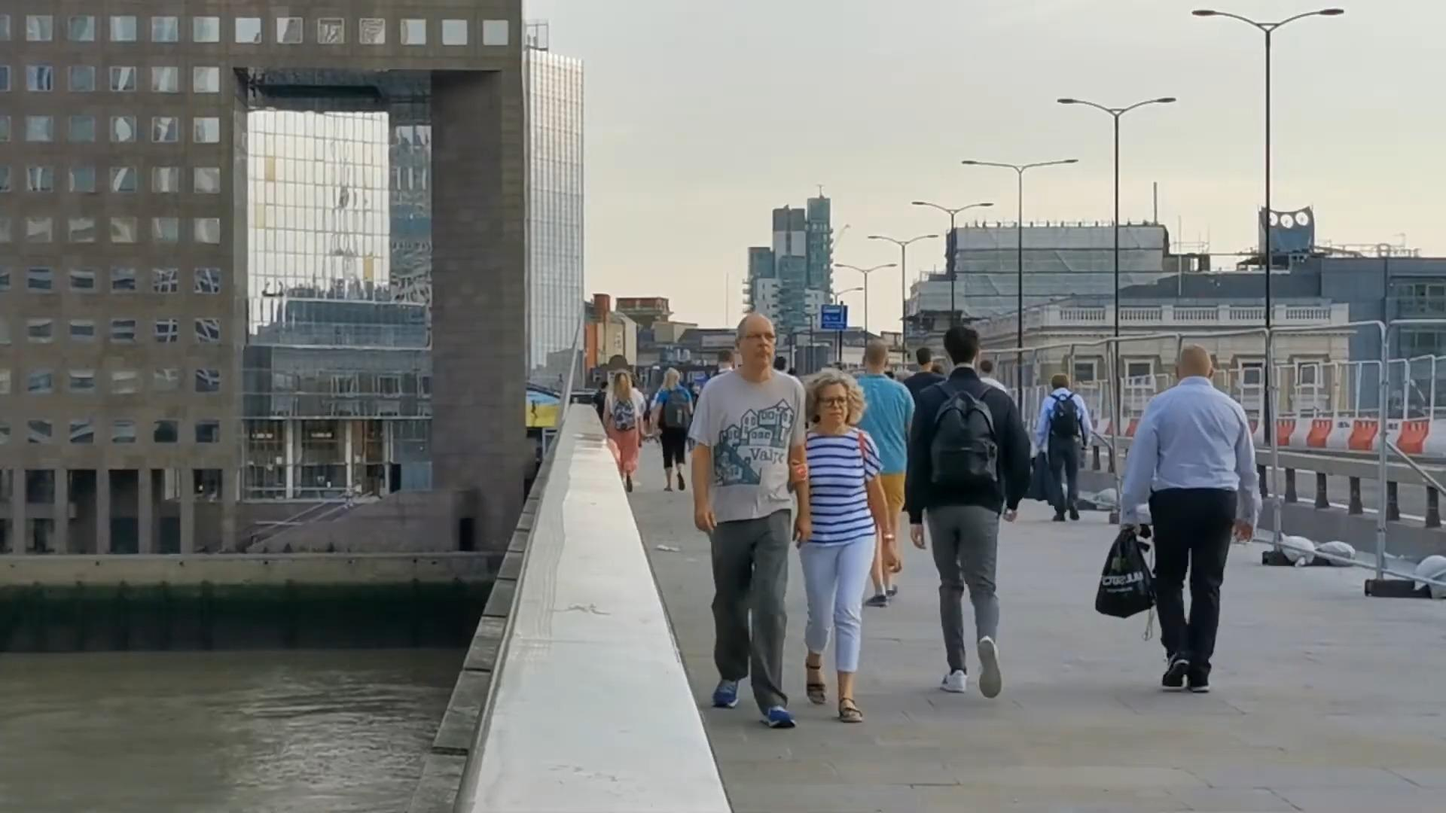no-helmet: (805, 368, 867, 426), (735, 314, 778, 370), (1175, 343, 1215, 381), (944, 326, 980, 368), (862, 340, 889, 373), (612, 369, 632, 395), (663, 367, 680, 390), (916, 348, 934, 368), (979, 360, 992, 377)
